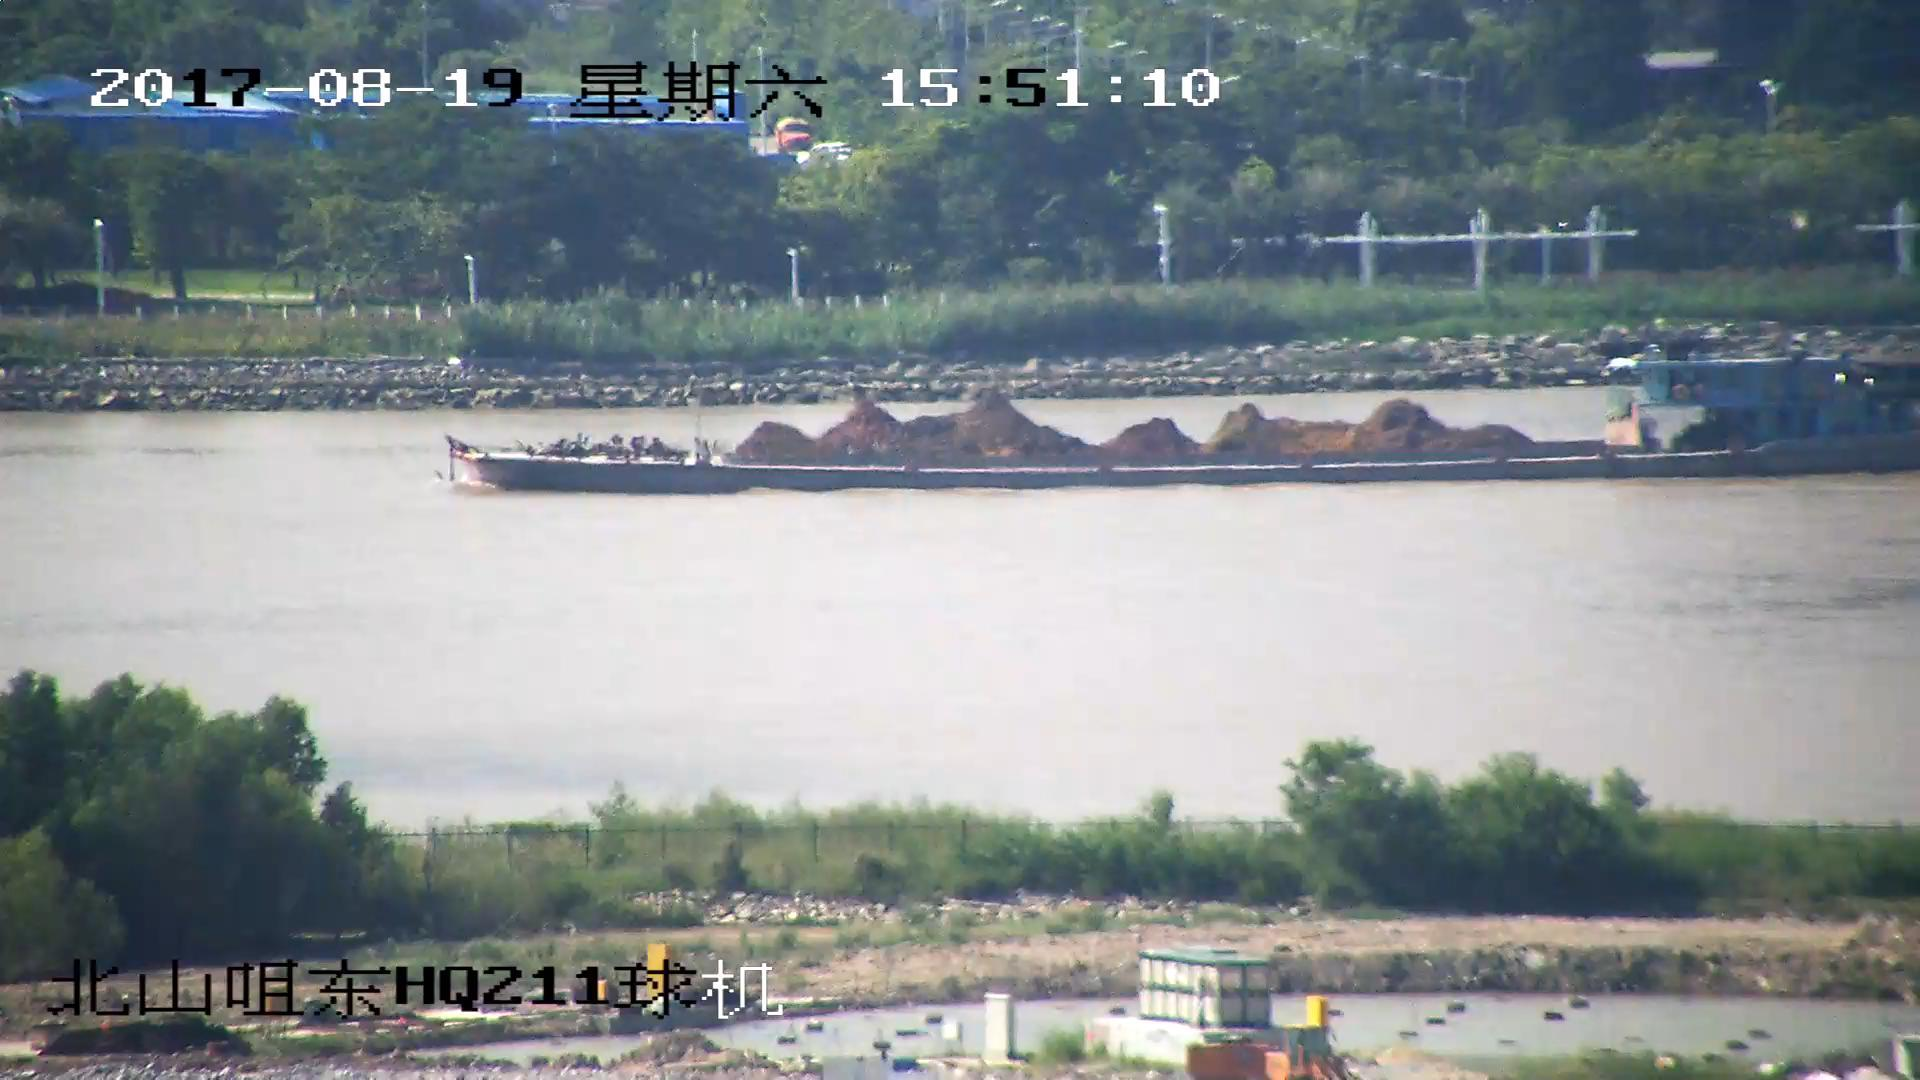Ship: (444, 359, 1920, 497)
